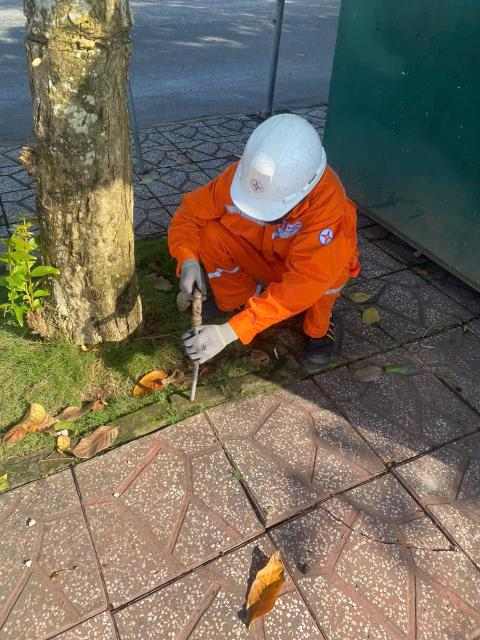gloves: (168, 313, 234, 370), (178, 248, 216, 301)
helmet: (208, 103, 341, 231)
shoes: (295, 306, 349, 371)
